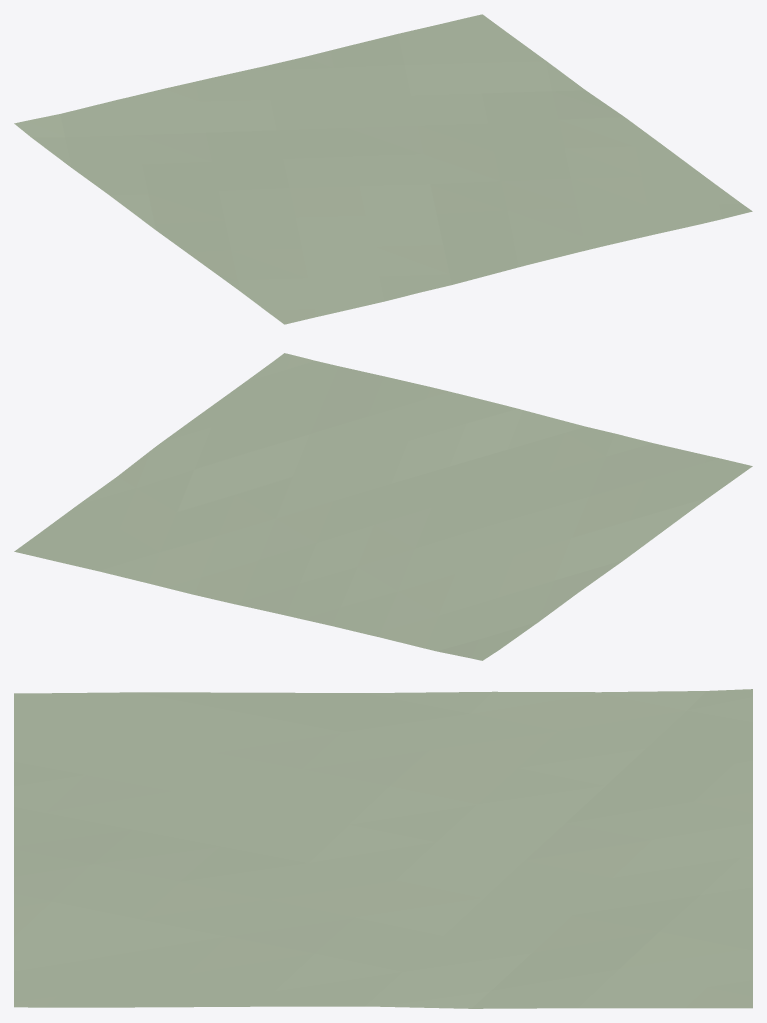
The model's file is SM_MPRR_Terrain_-3_1.fbx.
The picture shows the model from 3 angles, top to bottom: view 1: azimuth 30°, elevation 25°; view 2: azimuth 150°, elevation 25°; view 3: azimuth 270°, elevation 25°; orthographic projection. The views are drawn at different scales.
Visible parts, largest first — view 1: SM_MPRR_Terrain_-3_1; view 2: SM_MPRR_Terrain_-3_1; view 3: SM_MPRR_Terrain_-3_1.
Part boxes in pixels (<box>): SM_MPRR_Terrain_-3_1: <box>14,14,752,324</box>; SM_MPRR_Terrain_-3_1: <box>14,353,752,660</box>; SM_MPRR_Terrain_-3_1: <box>14,689,752,1008</box>.
Bounding box in the file's own units: 15000 × 15000 × 168.
